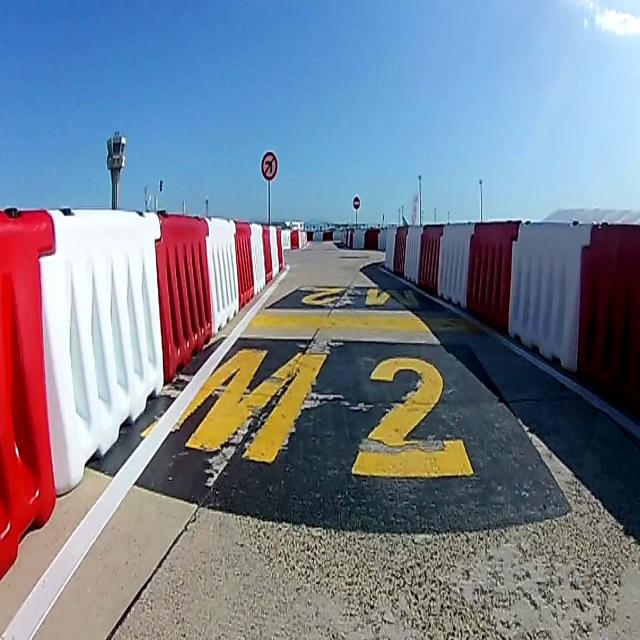girisyok: (352, 196, 361, 210)
soladonulmez: (261, 151, 278, 181)
